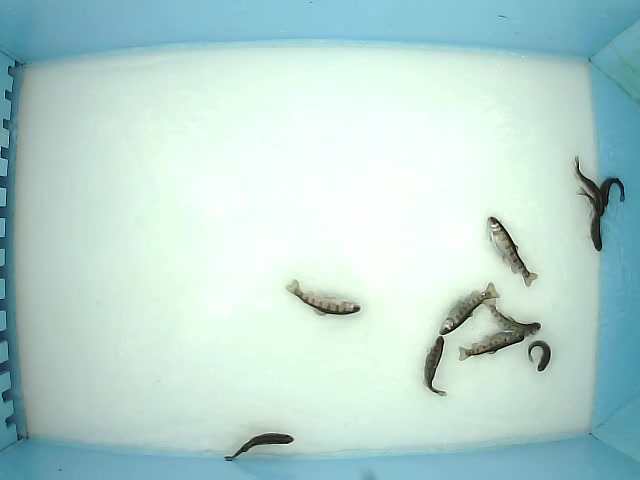fish: (486, 216, 538, 288), (438, 280, 501, 335), (284, 279, 362, 317), (482, 296, 543, 338), (457, 330, 524, 362), (572, 153, 605, 216), (223, 432, 294, 461), (575, 186, 603, 253), (422, 335, 448, 399), (527, 338, 552, 373), (600, 176, 626, 206)
